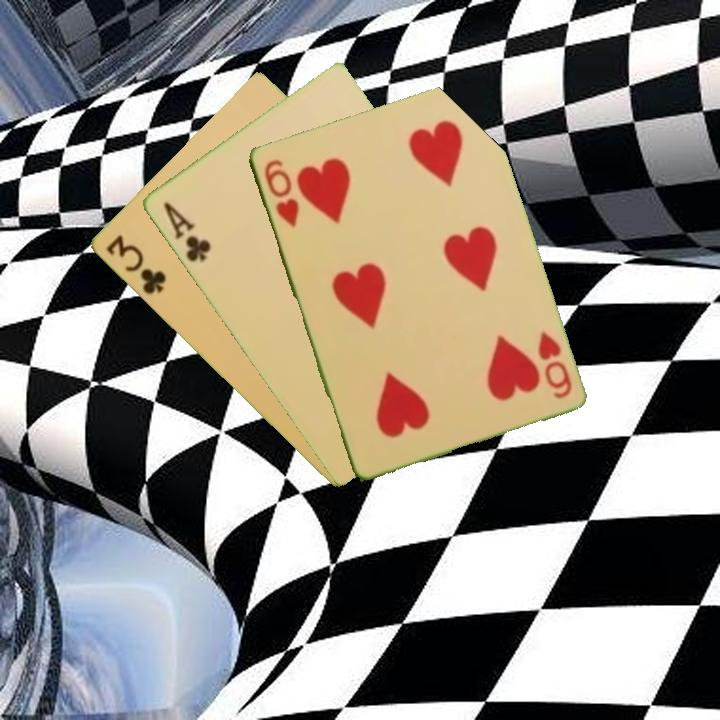3c: (102, 231, 169, 297)
6h: (260, 155, 302, 230), (533, 327, 575, 401)
Ac: (159, 197, 214, 265)
